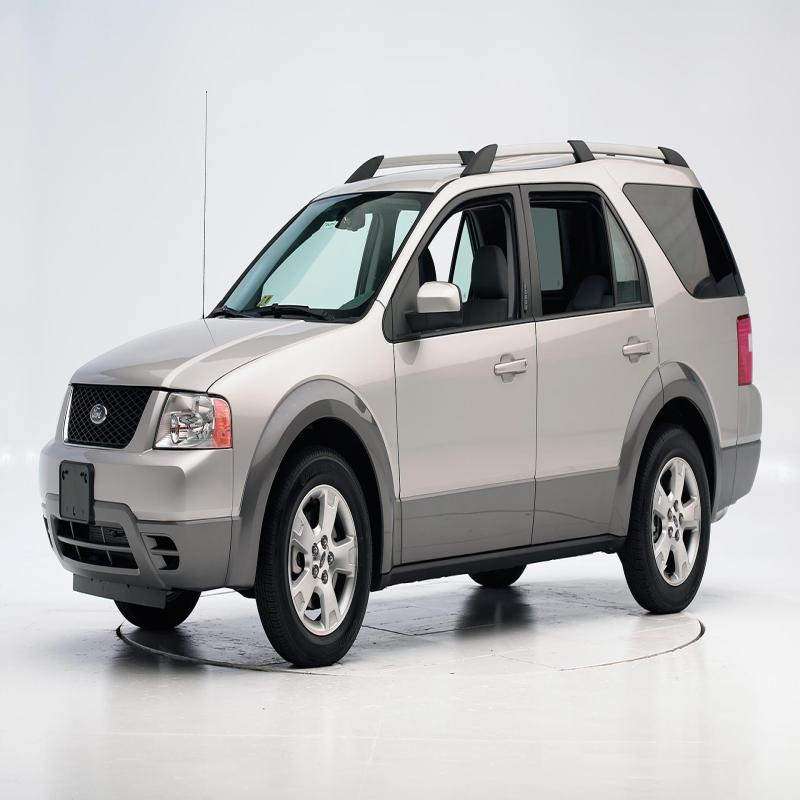car: (25, 139, 750, 614)
